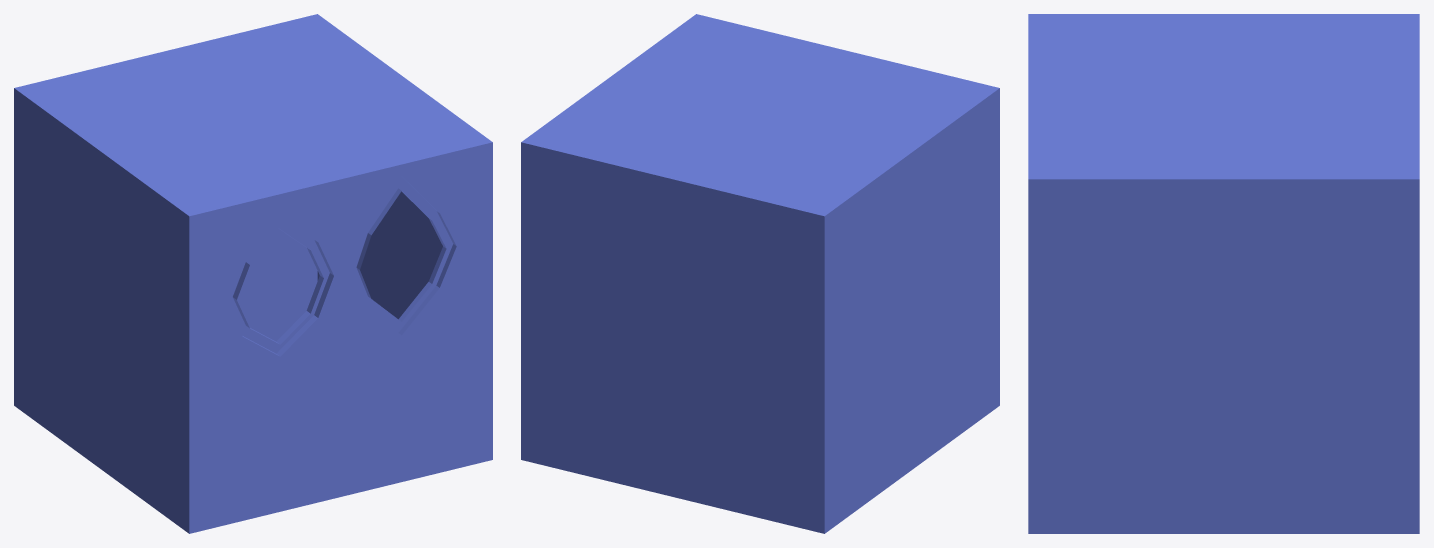
File: _nnermask.fbx
The picture shows the model from 3 angles, left to right: view 1: azimuth 30°, elevation 25°; view 2: azimuth 150°, elevation 25°; view 3: azimuth 270°, elevation 25°; orthographic projection. The views are drawn at different scales.
Parts seen in each view (by area): view 1: Cube; view 2: Cube; view 3: Cube.
Part boxes in pixels (x1,y1,x2,y2): Cube: (14, 14, 492, 533); Cube: (521, 14, 999, 533); Cube: (1028, 14, 1419, 533).
Size of the model in its own units: 639 by 639 by 639.
